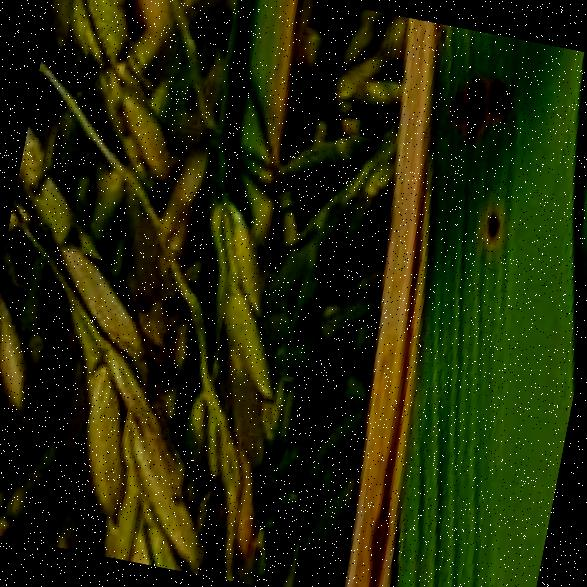Brown_Spot: (435, 46, 531, 144), (464, 188, 520, 252)
